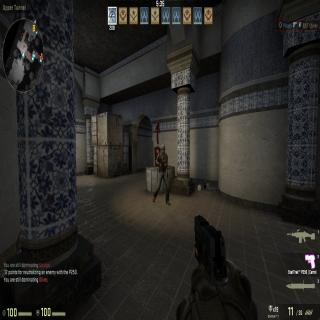T-Body: (155, 143, 169, 204)
T-Head: (160, 144, 166, 154)
